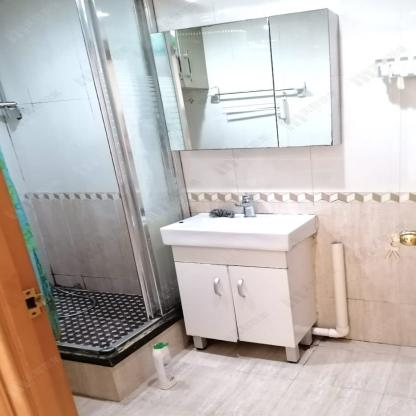Sink: (159, 212, 314, 239)
